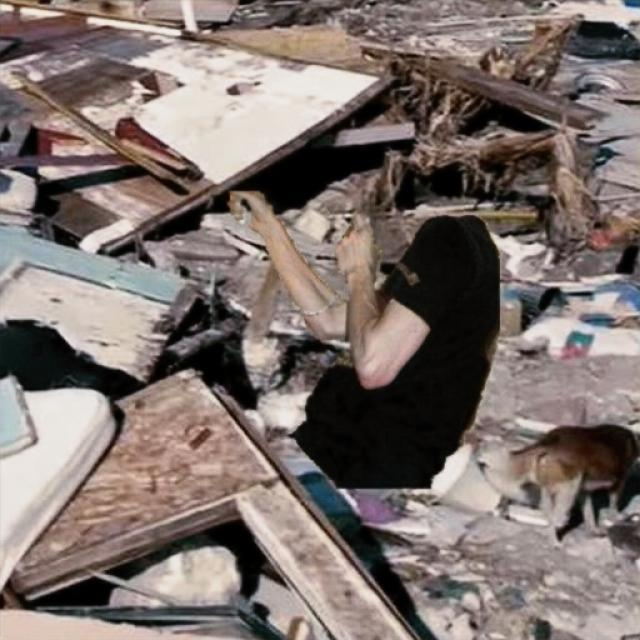Person in Rubble: (227, 192, 498, 488)
